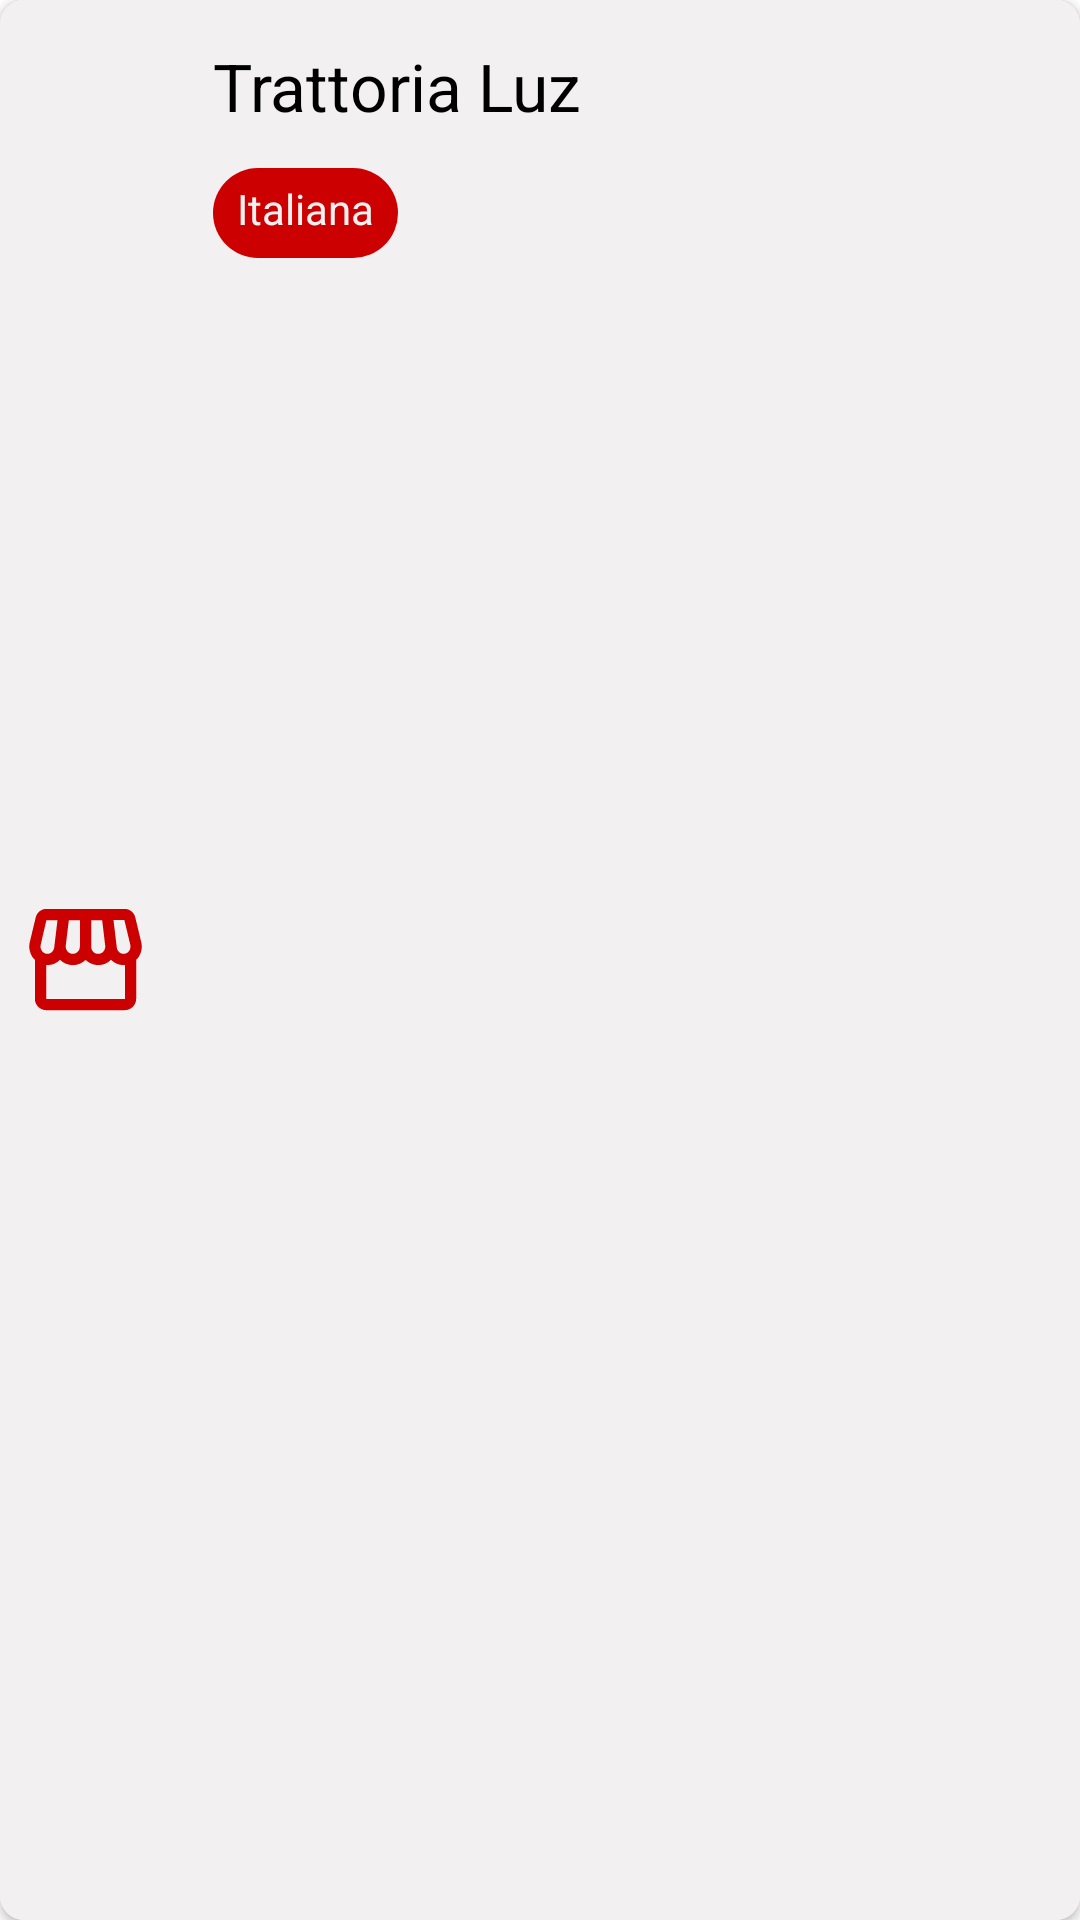

Locate icon controls on the screen. Image size 1080x1920, boxes as (x1, y1, x2, y2).
storefront: (29, 909, 142, 1011)
